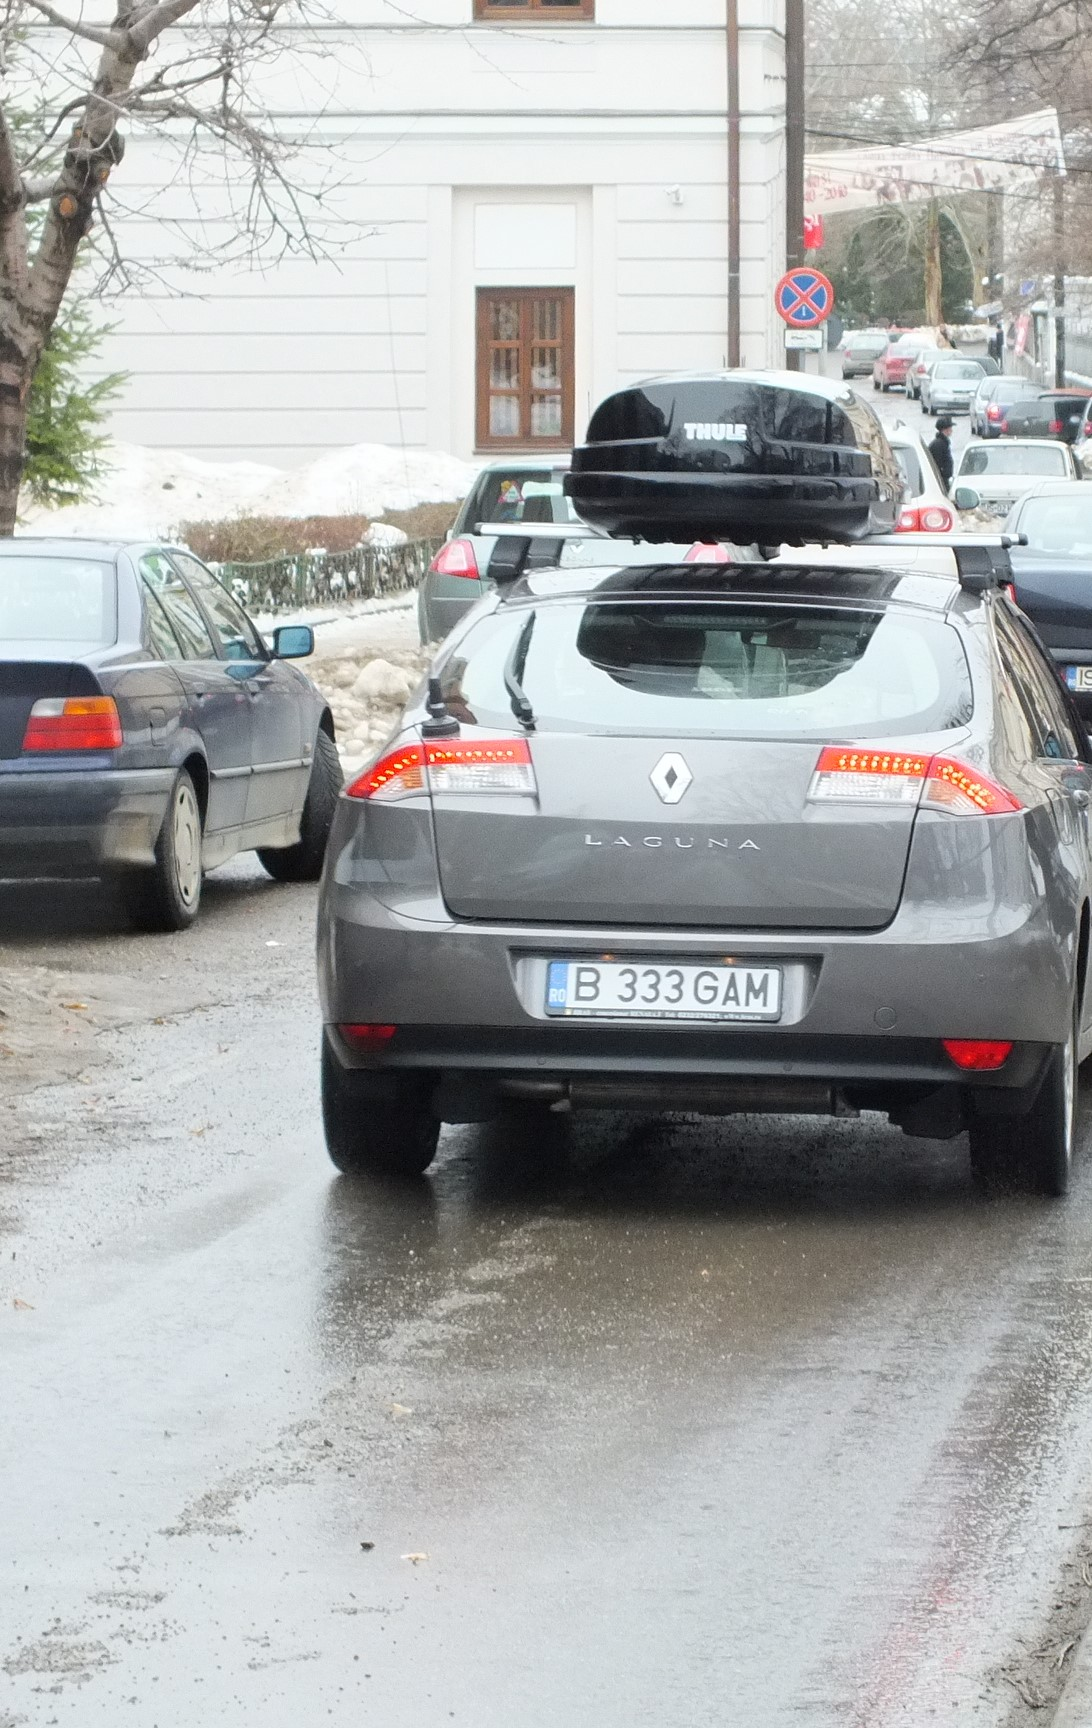B333GAM: (551, 963, 778, 1014)
